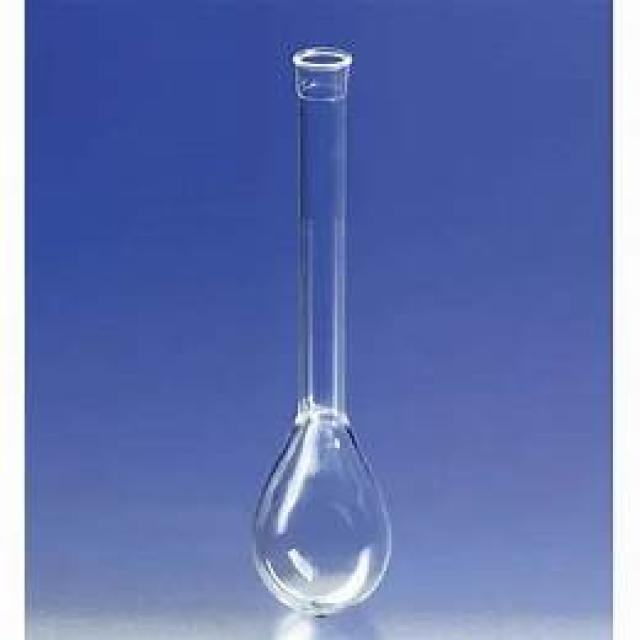Volumetric flask: (228, 45, 396, 616)
